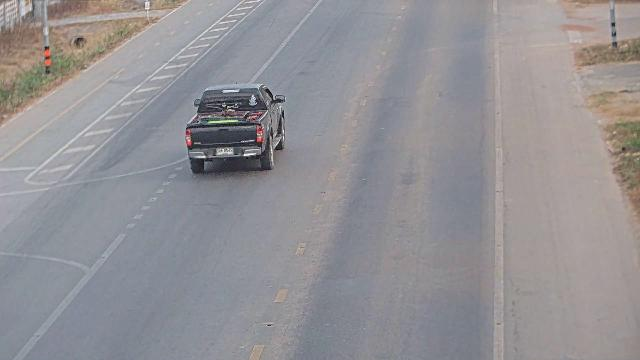pickup-truck: (184, 82, 287, 174)
